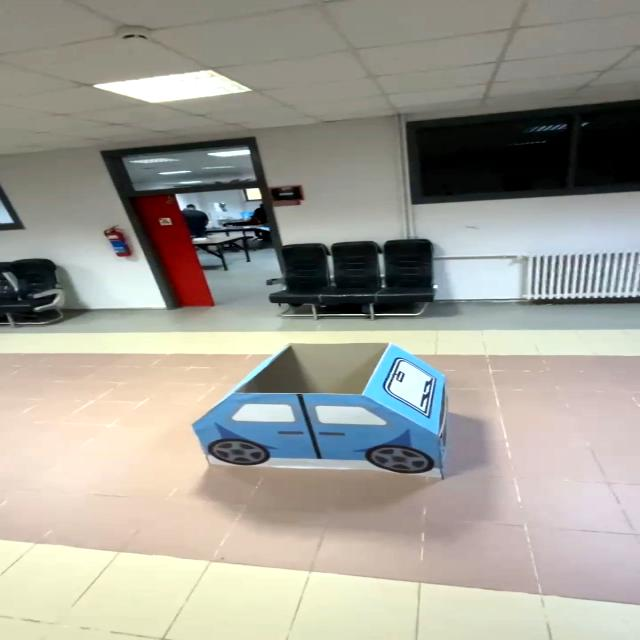blue_car: (164, 326, 508, 511)
